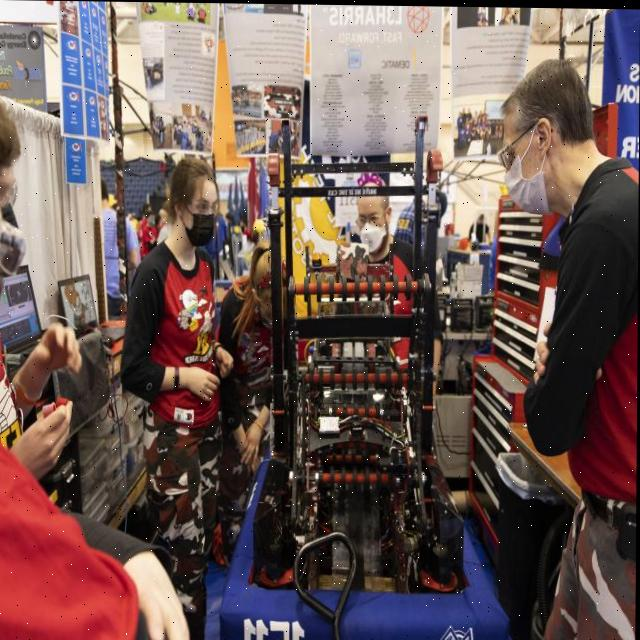robot: (220, 105, 511, 640)
